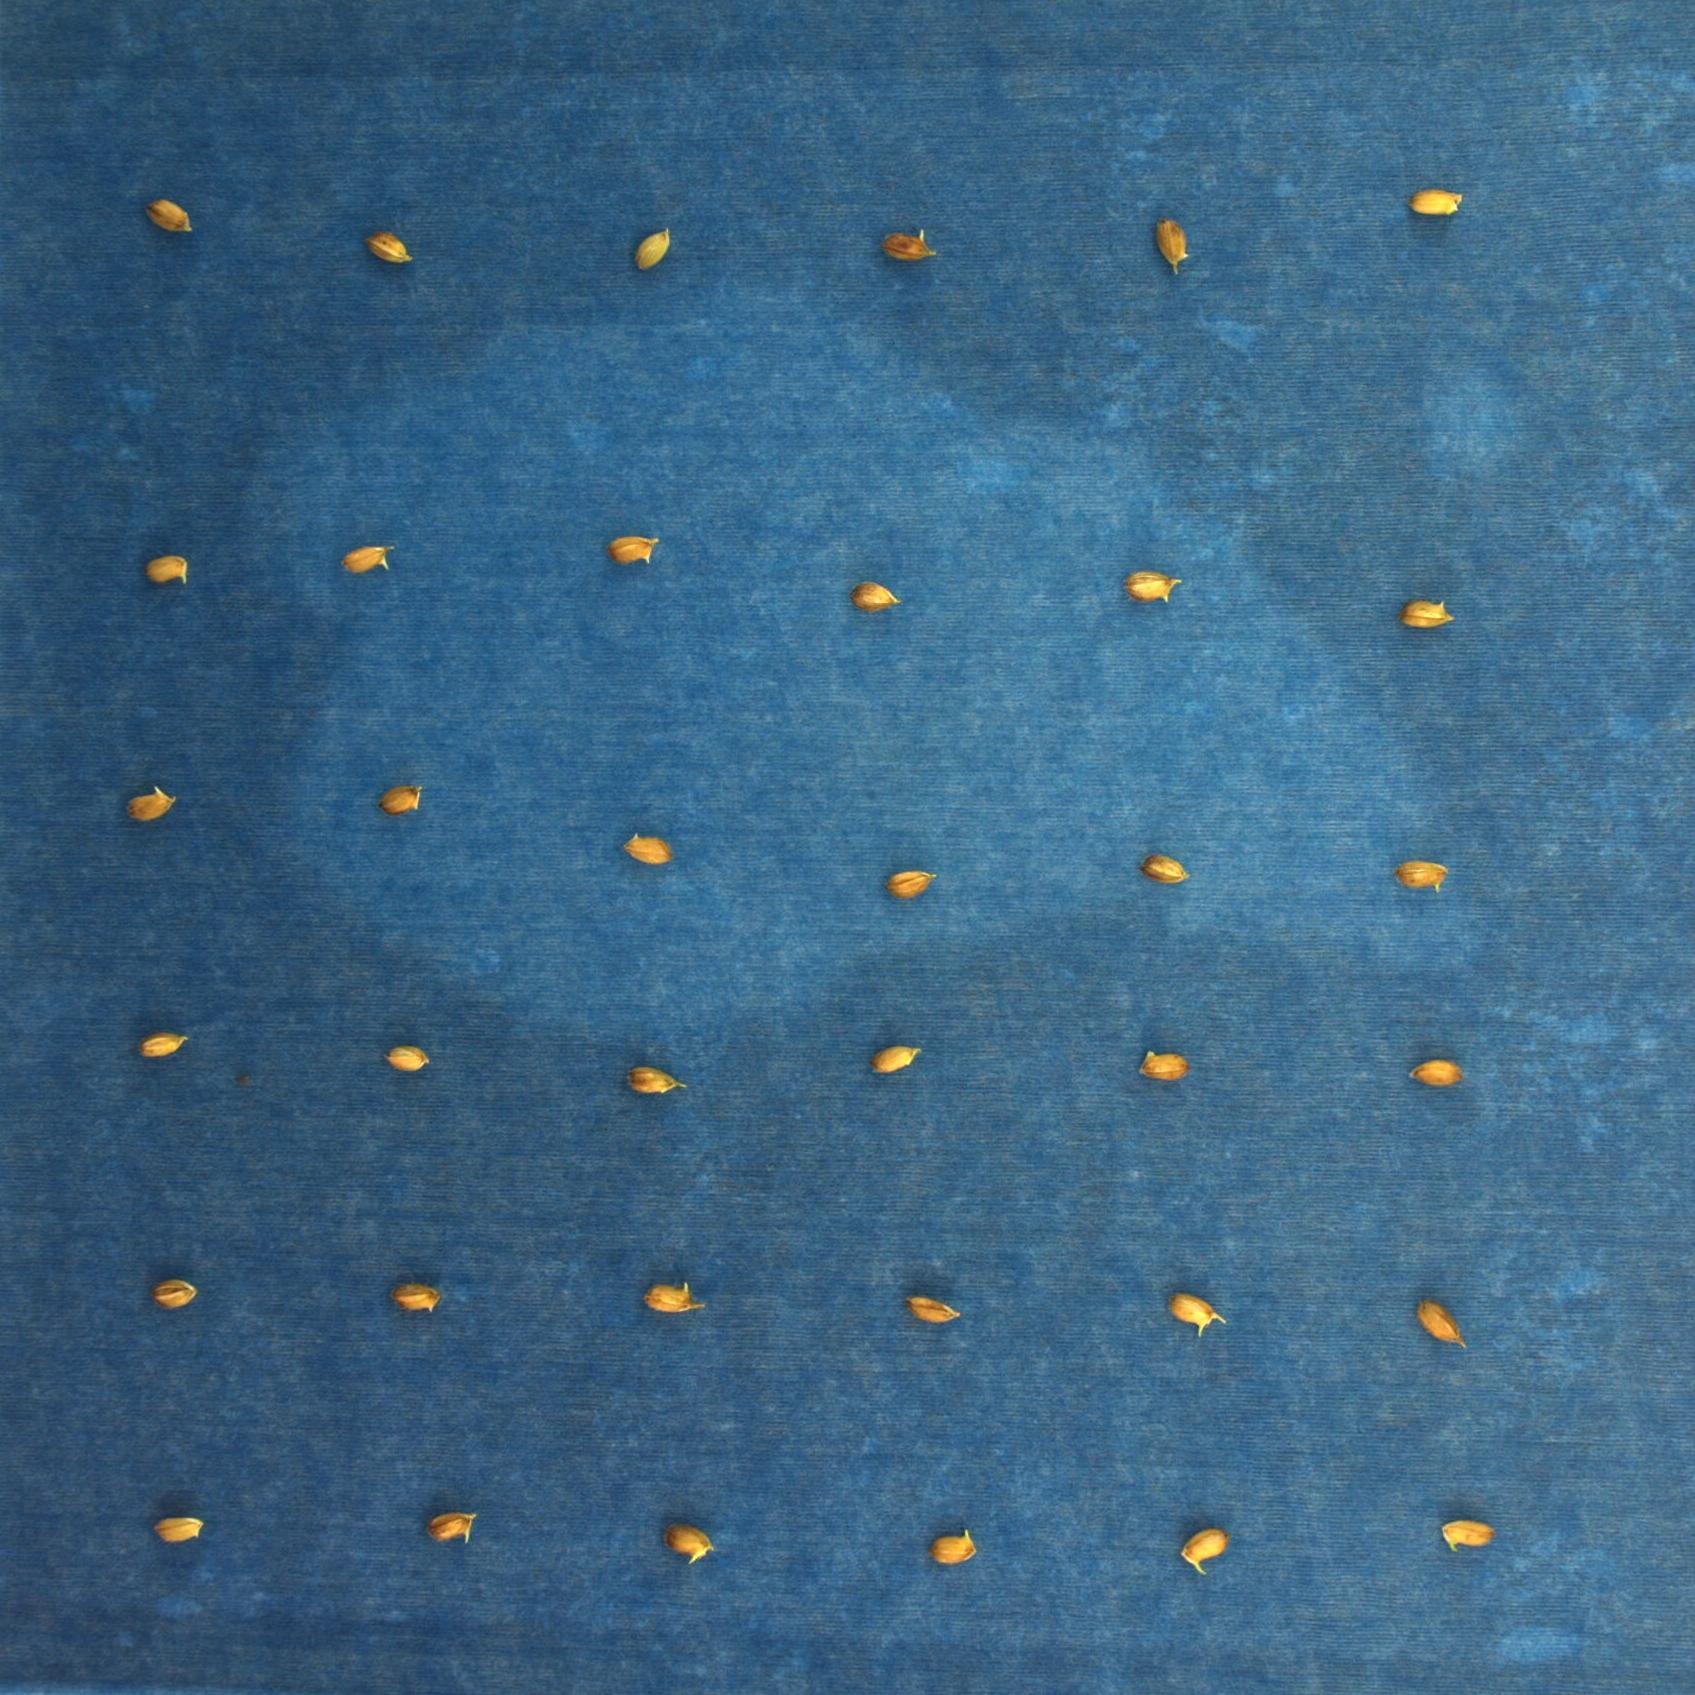not sprout: (1403, 185, 1468, 230), (1414, 1298, 1471, 1347), (1167, 1291, 1226, 1338), (1152, 213, 1194, 275), (879, 224, 939, 265), (1395, 594, 1458, 633), (1180, 1524, 1228, 1574), (630, 225, 677, 275), (643, 1277, 705, 1315), (663, 1518, 712, 1565), (1122, 568, 1184, 604), (141, 196, 192, 237), (1392, 858, 1450, 894), (425, 1509, 478, 1548), (362, 227, 413, 265), (123, 784, 177, 820), (1442, 1518, 1496, 1554), (626, 1065, 688, 1096), (341, 542, 394, 577), (869, 1043, 927, 1076), (930, 1529, 976, 1568), (605, 532, 658, 567), (151, 1274, 199, 1312), (846, 581, 900, 613), (621, 832, 671, 866), (885, 868, 934, 902), (1136, 852, 1191, 883), (1135, 1049, 1187, 1080), (141, 551, 189, 584), (1409, 1059, 1465, 1087), (135, 1029, 188, 1059), (906, 1295, 959, 1324), (379, 781, 422, 816), (388, 1284, 441, 1312), (382, 1042, 432, 1071), (154, 1512, 203, 1541)
